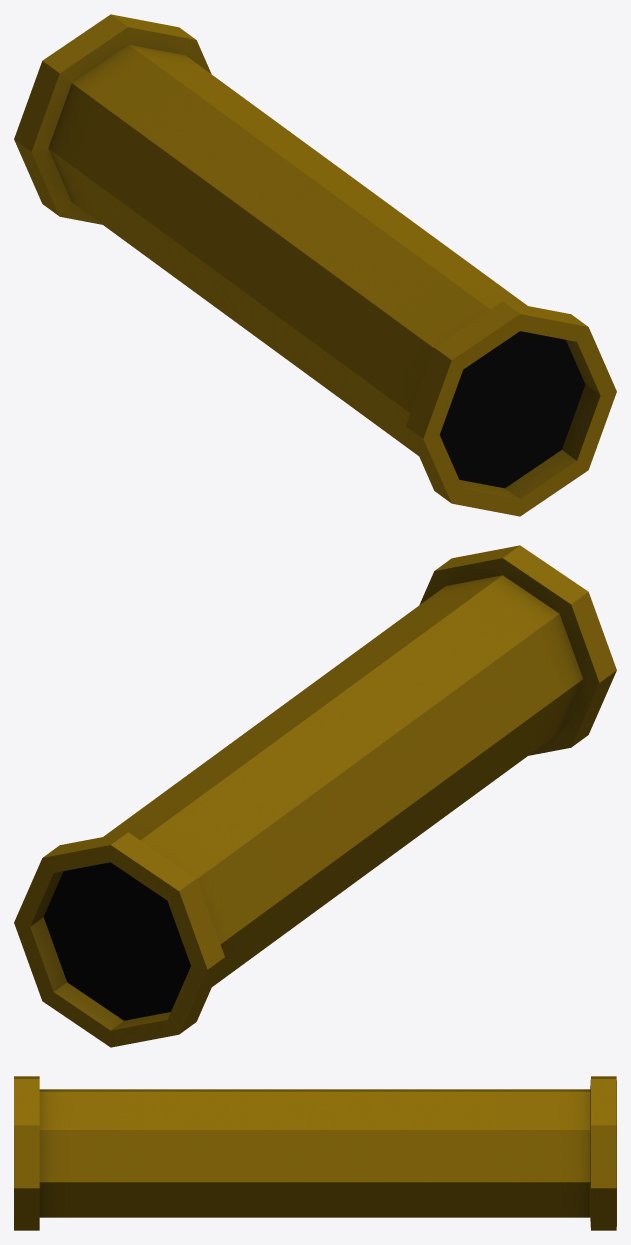
File: Low Poly Pipe.fbx
The picture shows the model from 3 angles, top to bottom: view 1: azimuth 30°, elevation 25°; view 2: azimuth 150°, elevation 25°; view 3: azimuth 270°, elevation 25°; orthographic projection. The views are drawn at different scales.
Parts seen in each view (by area): view 1: Object001; view 2: Object001; view 3: Object001.
Part boxes in pixels (bbox=[...]): Object001: bbox=[14, 14, 616, 516]; Object001: bbox=[14, 545, 616, 1047]; Object001: bbox=[14, 1076, 616, 1230].
Size of the model in its own units: 0.2406 by 0.2406 by 0.8817.
Materials: 1 (1 with a texture image).
